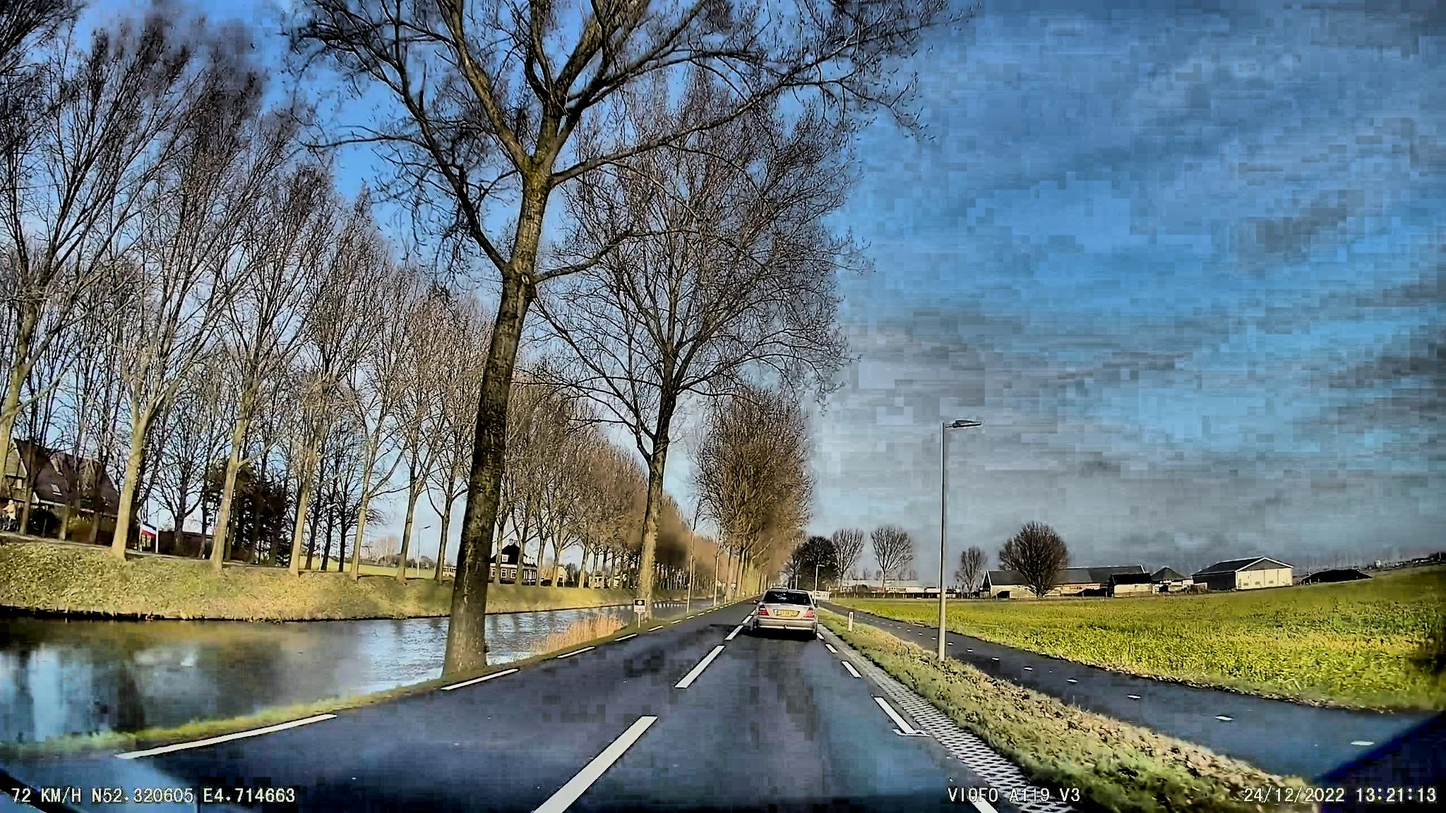Roads: (11, 607, 1077, 813)
